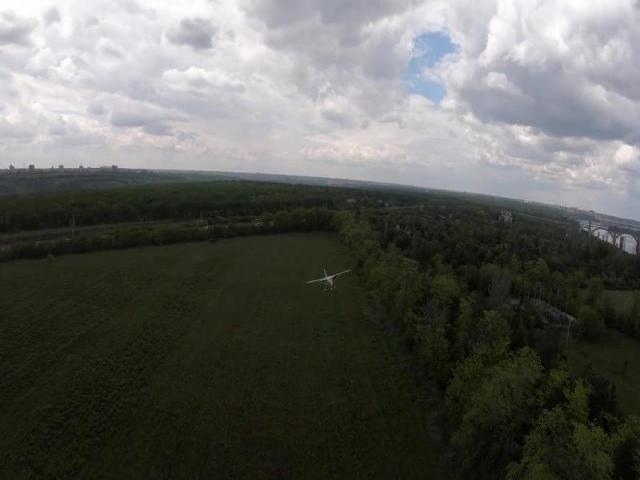hedef: (309, 262, 356, 298)
